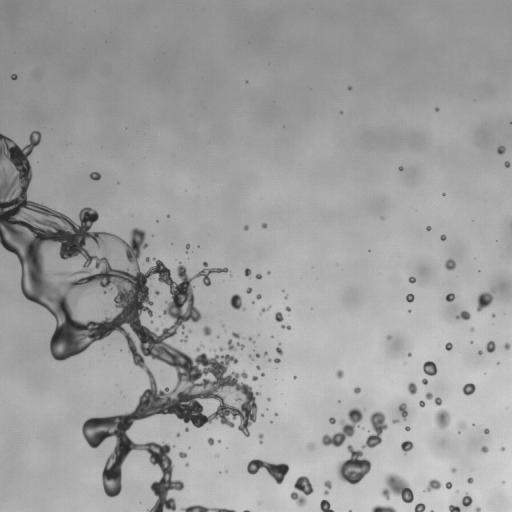droplet: (381, 472, 414, 503), (290, 476, 313, 507), (476, 287, 495, 311), (434, 408, 451, 429), (229, 293, 246, 311), (423, 478, 441, 492), (422, 360, 437, 375), (401, 440, 413, 455), (319, 499, 334, 511), (462, 383, 475, 395), (455, 420, 466, 434), (461, 492, 472, 506), (455, 310, 470, 320), (444, 258, 456, 270), (407, 382, 417, 395), (16, 137, 27, 148), (1, 158, 12, 169), (25, 190, 36, 201), (89, 201, 100, 212), (89, 221, 100, 232), (249, 221, 260, 232), (245, 275, 256, 286), (190, 277, 201, 288), (239, 293, 250, 304), (451, 301, 462, 312), (109, 329, 120, 340), (261, 361, 272, 372), (224, 363, 235, 374), (415, 385, 426, 396), (406, 400, 417, 411), (124, 402, 135, 413), (151, 412, 162, 423), (447, 413, 458, 424), (360, 415, 371, 426), (426, 416, 437, 427), (331, 422, 342, 433), (125, 427, 136, 438), (356, 430, 367, 441), (479, 434, 490, 445), (106, 435, 117, 446), (361, 448, 372, 459), (126, 449, 137, 460), (119, 460, 130, 471), (151, 469, 162, 480), (284, 472, 295, 483), (311, 479, 322, 490), (464, 484, 475, 495), (309, 492, 320, 503), (147, 493, 158, 504), (390, 493, 401, 504), (174, 499, 185, 510), (486, 340, 495, 353), (202, 325, 212, 336), (89, 171, 101, 180), (413, 502, 425, 511), (405, 293, 414, 303), (445, 293, 455, 302), (496, 145, 505, 154), (335, 369, 344, 378), (29, 164, 38, 173), (46, 200, 55, 209), (138, 247, 147, 256), (139, 264, 148, 273), (172, 275, 181, 284), (406, 283, 415, 292), (479, 284, 488, 293), (196, 318, 205, 327), (183, 319, 192, 328), (46, 325, 55, 334), (164, 336, 173, 345), (92, 339, 101, 348), (494, 342, 503, 351), (188, 350, 197, 359), (257, 356, 266, 365), (244, 377, 253, 386), (249, 382, 258, 391), (425, 398, 434, 407), (96, 409, 105, 418), (232, 416, 241, 425), (131, 418, 140, 427), (247, 422, 256, 431), (379, 430, 388, 439), (343, 435, 352, 444), (313, 436, 322, 445), (167, 449, 176, 458), (271, 456, 280, 465), (378, 480, 387, 489), (165, 489, 174, 498), (378, 498, 387, 507), (425, 391, 433, 400), (434, 396, 442, 405), (448, 505, 460, 511), (244, 268, 251, 278), (505, 150, 511, 161), (293, 505, 304, 511), (353, 386, 361, 394), (207, 437, 215, 445), (307, 442, 314, 451), (480, 446, 489, 453), (178, 451, 187, 458), (445, 342, 452, 350), (503, 342, 510, 350), (445, 481, 452, 489), (408, 276, 415, 283), (421, 378, 428, 385), (26, 154, 33, 161), (73, 218, 80, 225), (136, 223, 143, 230), (143, 235, 150, 242), (124, 236, 131, 243), (9, 252, 16, 259), (137, 255, 144, 262), (149, 260, 156, 267), (249, 269, 256, 276), (185, 270, 192, 277), (249, 291, 256, 298), (224, 295, 231, 302), (471, 299, 478, 306), (28, 300, 35, 307), (192, 300, 199, 307), (226, 304, 233, 311), (482, 305, 489, 312), (281, 310, 288, 317), (209, 330, 216, 337), (468, 332, 475, 339), (102, 335, 109, 342), (122, 343, 129, 350), (205, 352, 212, 359), (67, 355, 74, 362), (254, 357, 261, 364), (236, 376, 243, 383), (143, 382, 150, 389), (401, 384, 408, 391), (136, 388, 143, 395), (253, 396, 260, 403), (349, 402, 356, 409), (355, 403, 362, 410), (433, 404, 440, 411), (373, 405, 380, 412), (394, 410, 401, 417), (169, 412, 176, 419), (265, 412, 272, 419), (344, 417, 351, 424), (383, 417, 390, 424), (142, 436, 149, 443), (82, 441, 89, 448), (327, 443, 334, 450), (344, 452, 351, 459), (255, 453, 262, 460), (258, 466, 265, 473), (96, 467, 103, 474), (362, 473, 369, 480), (170, 474, 177, 481), (268, 476, 275, 483), (422, 479, 429, 486), (343, 480, 350, 487), (112, 494, 119, 501), (289, 498, 296, 505), (200, 500, 207, 507), (409, 500, 416, 507), (455, 500, 462, 507), (506, 444, 511, 453), (459, 506, 468, 511), (10, 74, 17, 80), (440, 234, 446, 241), (255, 273, 262, 279), (246, 287, 252, 294), (419, 400, 425, 407), (504, 161, 510, 167), (261, 222, 267, 228), (243, 224, 249, 230), (285, 305, 291, 311), (386, 334, 392, 340), (252, 375, 258, 381), (483, 428, 489, 434), (467, 477, 473, 483), (218, 346, 225, 351), (274, 358, 281, 363), (392, 419, 400, 423), (255, 294, 261, 299), (155, 313, 161, 318), (477, 350, 483, 355), (405, 425, 410, 431), (451, 467, 456, 473), (475, 506, 481, 511), (174, 507, 181, 511), (235, 507, 242, 511), (398, 166, 403, 171), (426, 226, 431, 231), (215, 333, 220, 338), (500, 446, 505, 451), (184, 462, 189, 467), (348, 81, 353, 86), (31, 125, 36, 130), (37, 127, 42, 132), (2, 131, 7, 136), (25, 139, 30, 144), (38, 140, 43, 145), (32, 145, 37, 150), (492, 147, 497, 152), (96, 168, 101, 173), (93, 179, 98, 184), (78, 204, 83, 209), (97, 214, 102, 219), (263, 218, 268, 223), (256, 223, 261, 228), (238, 224, 243, 229), (104, 227, 109, 232), (247, 227, 252, 232), (244, 229, 249, 234), (113, 230, 118, 235), (452, 256, 457, 261), (440, 259, 445, 264), (454, 259, 459, 264), (180, 261, 185, 266), (164, 263, 169, 268), (207, 263, 212, 268), (219, 263, 224, 268), (199, 264, 204, 269), (247, 264, 252, 269), (441, 266, 446, 271), (239, 269, 244, 274), (447, 269, 452, 274), (260, 271, 265, 276), (207, 273, 212, 278), (16, 274, 21, 279), (189, 280, 194, 285), (16, 285, 21, 290), (17, 289, 22, 294), (444, 289, 449, 294), (491, 292, 496, 297), (20, 294, 25, 299), (254, 298, 259, 303), (262, 303, 267, 308), (42, 307, 47, 312), (455, 310, 460, 315), (47, 312, 52, 317), (270, 314, 275, 319), (458, 317, 463, 322), (280, 319, 285, 324), (276, 320, 281, 325), (176, 326, 181, 331), (218, 327, 223, 332), (183, 329, 188, 334), (384, 330, 389, 335), (205, 334, 210, 339), (381, 334, 386, 339), (186, 336, 191, 341), (490, 336, 495, 341), (121, 337, 126, 342), (231, 337, 236, 342), (238, 338, 243, 343), (388, 338, 393, 343), (273, 342, 278, 347), (223, 343, 228, 348), (235, 345, 240, 350), (481, 346, 486, 351), (199, 348, 204, 353), (492, 349, 497, 354), (216, 350, 221, 355), (221, 350, 226, 355), (228, 350, 233, 355), (258, 350, 263, 355), (250, 351, 255, 356), (127, 352, 132, 357), (274, 352, 279, 357), (473, 352, 478, 357), (47, 353, 52, 358), (426, 356, 431, 361), (228, 360, 233, 365), (419, 360, 424, 365), (434, 361, 439, 366), (273, 362, 278, 367), (435, 364, 440, 369), (135, 365, 140, 370), (259, 367, 264, 372), (332, 368, 337, 373), (342, 370, 347, 375), (255, 371, 260, 376), (425, 374, 430, 379), (338, 377, 343, 382), (466, 378, 471, 383), (471, 379, 476, 384), (474, 385, 479, 390), (250, 387, 255, 392), (473, 388, 478, 393), (458, 389, 463, 394), (357, 391, 362, 396), (471, 391, 476, 396), (440, 396, 445, 401), (422, 397, 427, 402), (265, 401, 270, 406), (394, 402, 399, 407), (404, 406, 409, 411), (255, 411, 260, 416), (235, 414, 240, 419), (334, 416, 339, 421), (178, 418, 183, 423), (324, 419, 329, 424), (187, 420, 192, 425), (203, 421, 208, 426), (402, 421, 407, 426), (223, 423, 228, 428), (246, 425, 251, 430), (77, 426, 82, 431), (353, 426, 358, 431), (237, 430, 242, 435), (328, 432, 333, 437), (364, 432, 369, 437), (212, 436, 217, 441), (254, 436, 259, 441), (261, 436, 266, 441), (147, 437, 152, 442), (400, 437, 405, 442), (361, 438, 366, 443), (167, 441, 172, 446), (204, 441, 209, 446), (482, 441, 487, 446), (375, 443, 380, 448), (396, 443, 401, 448), (476, 445, 481, 450), (352, 446, 357, 451), (181, 447, 186, 452), (398, 448, 403, 453), (406, 449, 411, 454), (478, 450, 483, 455), (145, 452, 150, 457), (181, 457, 186, 462), (451, 462, 456, 467), (154, 463, 159, 468), (369, 464, 374, 469), (242, 465, 247, 470), (219, 466, 224, 471), (299, 471, 304, 476), (248, 473, 253, 478), (322, 476, 327, 481), (472, 477, 477, 482), (308, 478, 313, 483), (148, 479, 153, 484), (182, 480, 187, 485), (440, 482, 445, 487), (322, 485, 327, 490), (409, 485, 414, 490), (450, 485, 455, 490), (99, 487, 104, 492), (377, 488, 382, 493), (431, 488, 436, 493), (411, 489, 416, 494), (118, 490, 123, 495), (467, 491, 472, 496), (285, 493, 290, 498), (104, 494, 109, 499), (323, 495, 328, 500), (470, 495, 475, 500), (315, 501, 320, 506), (402, 501, 407, 506), (185, 502, 190, 507), (225, 504, 230, 509), (470, 326, 474, 332), (254, 353, 260, 357), (0, 243, 3, 250), (347, 86, 352, 90), (434, 107, 439, 111), (266, 270, 270, 275), (284, 294, 288, 299), (263, 351, 267, 356), (267, 358, 272, 362), (256, 365, 260, 370), (266, 397, 271, 401), (184, 427, 189, 431), (176, 432, 180, 437), (217, 438, 221, 443), (214, 453, 219, 457), (339, 110, 343, 114), (166, 214, 170, 218), (491, 313, 495, 317), (187, 329, 191, 333), (496, 361, 500, 365), (261, 372, 265, 376), (293, 375, 297, 379), (274, 412, 278, 416), (224, 469, 228, 473), (408, 352, 411, 357), (508, 340, 511, 345), (508, 346, 511, 351), (423, 508, 428, 511), (445, 508, 450, 511), (479, 508, 484, 511), (442, 192, 445, 196), (380, 216, 384, 219), (281, 289, 285, 292), (408, 309, 411, 313), (150, 319, 153, 323), (403, 362, 407, 365), (269, 420, 273, 423), (501, 480, 505, 483), (456, 489, 459, 493), (429, 509, 434, 511), (245, 80, 248, 83), (151, 234, 154, 237), (251, 301, 254, 304), (270, 335, 273, 338), (470, 340, 473, 343), (472, 423, 475, 426), (218, 470, 221, 473), (12, 70, 15, 73), (8, 72, 11, 75), (16, 76, 19, 79), (244, 76, 247, 79), (8, 77, 11, 80), (12, 79, 15, 82), (242, 80, 245, 83), (247, 80, 250, 83), (344, 86, 347, 89), (350, 88, 353, 91), (346, 89, 349, 92), (437, 105, 440, 108), (432, 109, 435, 112), (436, 110, 439, 113), (336, 111, 339, 114), (342, 111, 345, 114), (508, 118, 511, 121), (500, 142, 503, 145), (397, 163, 400, 166), (501, 163, 504, 166), (402, 165, 405, 168), (395, 167, 398, 170), (88, 170, 91, 173), (399, 170, 402, 173), (442, 189, 445, 192), (440, 195, 443, 198), (443, 195, 446, 198), (84, 204, 87, 207), (169, 214, 172, 217), (163, 215, 166, 218), (155, 216, 158, 219), (167, 217, 170, 220), (158, 220, 161, 223), (153, 221, 156, 224), (426, 222, 429, 225), (247, 223, 250, 226), (266, 224, 269, 227), (423, 225, 426, 228), (430, 225, 433, 228), (263, 227, 266, 230), (426, 230, 429, 233), (440, 231, 443, 234), (494, 236, 497, 239), (437, 237, 440, 240), (443, 239, 446, 242), (492, 239, 495, 242), (185, 240, 188, 243), (196, 241, 199, 244), (182, 244, 185, 247), (189, 244, 192, 247), (199, 244, 202, 247), (183, 247, 186, 250), (196, 247, 199, 250), (187, 248, 190, 251), (364, 248, 367, 251), (184, 253, 187, 256), (154, 257, 157, 260), (245, 265, 248, 268), (227, 267, 230, 270), (267, 267, 270, 270), (475, 267, 478, 270), (479, 267, 482, 270), (220, 271, 223, 274), (478, 271, 481, 274), (269, 272, 272, 275), (412, 274, 415, 277), (200, 275, 203, 278), (256, 278, 259, 281), (415, 278, 418, 281), (413, 281, 416, 284), (409, 282, 412, 285), (202, 283, 205, 286), (208, 284, 211, 287), (248, 284, 251, 287), (280, 286, 283, 289), (407, 290, 410, 293), (411, 291, 414, 294), (282, 292, 285, 295), (260, 293, 263, 296), (454, 294, 457, 297), (287, 295, 290, 298), (413, 296, 416, 299), (403, 297, 406, 300), (452, 298, 455, 301), (406, 301, 409, 304), (409, 301, 412, 304), (289, 305, 292, 308), (258, 308, 261, 311), (404, 309, 407, 312), (410, 309, 413, 312), (494, 312, 497, 315), (257, 315, 260, 318), (452, 315, 455, 318), (493, 316, 496, 319), (224, 325, 227, 328), (290, 325, 293, 328), (283, 327, 286, 330), (234, 330, 237, 333), (268, 332, 271, 335), (390, 332, 393, 335), (238, 333, 241, 336), (273, 334, 276, 337), (269, 337, 272, 340), (225, 338, 228, 341), (467, 338, 470, 341), (255, 340, 258, 343), (470, 343, 473, 346), (278, 345, 281, 348), (442, 345, 445, 348), (242, 347, 245, 350), (450, 347, 453, 350), (474, 350, 477, 353), (410, 351, 413, 354), (404, 352, 407, 355), (253, 355, 256, 358), (407, 356, 410, 359), (247, 357, 250, 360), (498, 363, 501, 366), (244, 370, 247, 373), (263, 371, 266, 374), (290, 375, 293, 378), (295, 377, 298, 380), (358, 384, 361, 387), (267, 394, 270, 397), (337, 396, 340, 399), (270, 398, 273, 401), (334, 399, 337, 402), (337, 402, 340, 405), (417, 404, 420, 407), (274, 409, 277, 412), (274, 415, 277, 418), (327, 415, 330, 418), (405, 415, 408, 418), (472, 420, 475, 423), (267, 422, 270, 425), (468, 422, 471, 425), (408, 424, 411, 427), (472, 425, 475, 428), (484, 425, 487, 428), (481, 427, 484, 430), (409, 428, 412, 431), (488, 428, 491, 431), (403, 429, 406, 432), (454, 429, 457, 432), (185, 431, 188, 434), (460, 431, 463, 434), (173, 432, 176, 435), (484, 433, 487, 436), (220, 439, 223, 442), (259, 443, 262, 446), (210, 444, 213, 447), (503, 444, 506, 447), (504, 447, 507, 450), (188, 462, 191, 465), (227, 470, 230, 473), (215, 471, 218, 474), (466, 475, 469, 478), (500, 477, 503, 480), (449, 479, 452, 482), (464, 479, 467, 482), (468, 482, 471, 485), (503, 482, 506, 485), (451, 483, 454, 486), (348, 506, 351, 509), (244, 507, 247, 510), (345, 508, 348, 511), (337, 400, 341, 402), (261, 413, 263, 417), (509, 121, 511, 124), (117, 181, 119, 184), (368, 249, 370, 252), (310, 307, 313, 309), (257, 333, 260, 335), (252, 349, 255, 351), (483, 372, 486, 374), (362, 427, 364, 430), (188, 446, 190, 449), (258, 501, 260, 504), (348, 509, 351, 511), (509, 123, 511, 126), (509, 163, 511, 166), (351, 509, 354, 511), (156, 220, 158, 222), (197, 245, 199, 247), (478, 270, 480, 272), (120, 349, 122, 351), (226, 447, 228, 449), (102, 347, 103, 349), (139, 502, 141, 503)
ligament: (335, 410, 388, 485), (246, 458, 289, 484), (180, 505, 237, 511), (274, 312, 291, 330), (370, 504, 396, 511), (398, 402, 407, 420), (323, 479, 331, 495), (259, 305, 271, 315), (275, 342, 283, 355), (232, 332, 245, 339), (248, 336, 255, 345), (258, 433, 263, 444), (185, 242, 189, 254), (248, 354, 255, 360), (221, 324, 226, 332), (367, 430, 371, 432), (242, 510, 250, 511), (161, 322, 163, 325), (265, 408, 268, 410), (275, 367, 277, 369)
